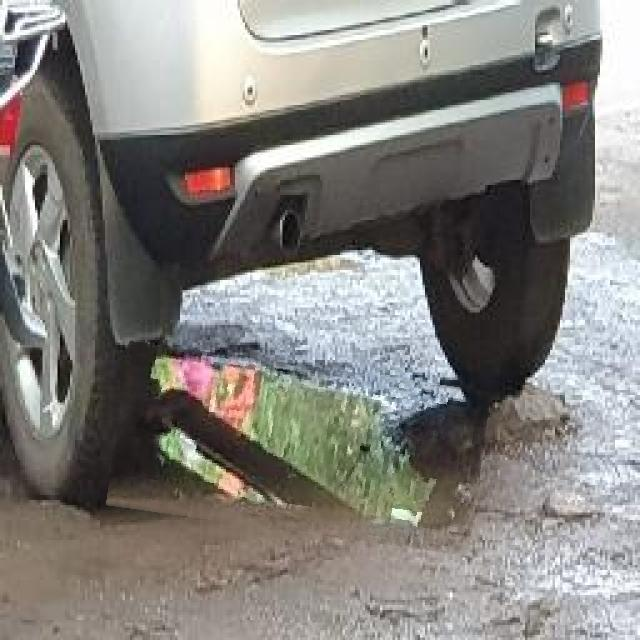puddle: (113, 354, 488, 545)
